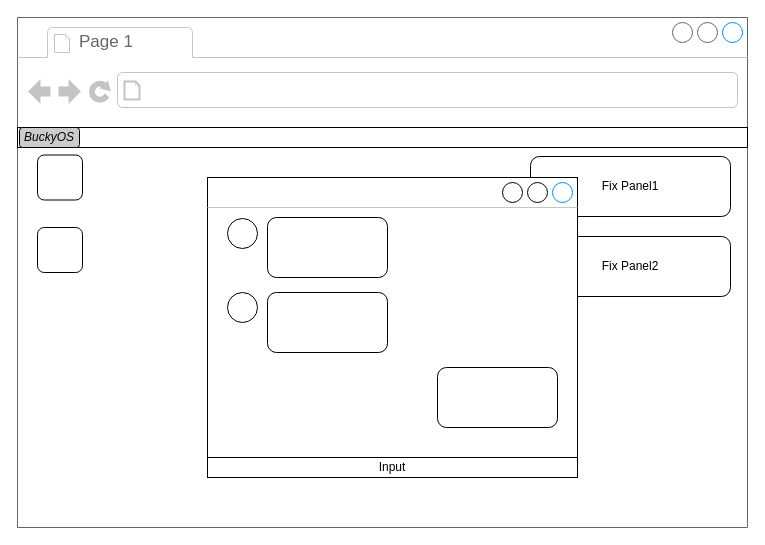
Image size: 765x545. Some labels were removed from this diagram. Here are the shapes that lost their labels. From the top down, the box of each, then its label:
(146, 76, 398, 104): https://test.buckyos.io
(16, 126, 748, 148): Status Bar
(206, 176, 578, 478): Jarvis
